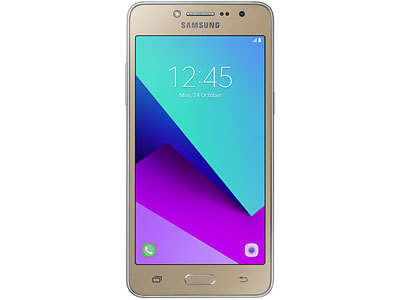Handphone: (125, 1, 275, 300)
